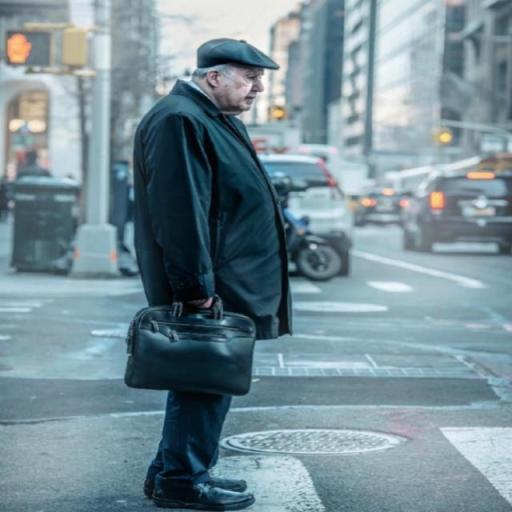person: (134, 37, 299, 512)
